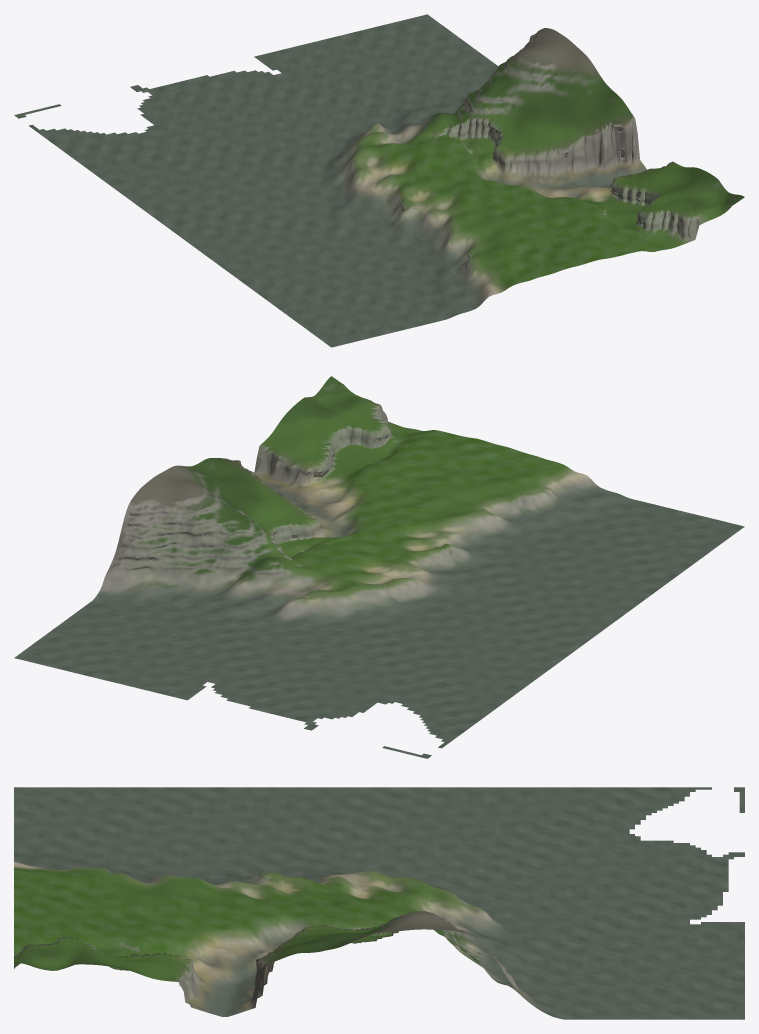
File: coast_tile_x0z0.glb
The picture shows the model from 3 angles, top to bottom: view 1: azimuth 30°, elevation 25°; view 2: azimuth 150°, elevation 25°; view 3: azimuth 270°, elevation 25°; orthographic projection. The views are drawn at different scales.
Parts seen in each view (by area): view 1: coast_tile_x0z0; view 2: coast_tile_x0z0; view 3: coast_tile_x0z0.
Part boxes in pixels (box(x1,y1,x2,y2)): coast_tile_x0z0: box(14, 14, 744, 347); coast_tile_x0z0: box(14, 376, 744, 758); coast_tile_x0z0: box(14, 787, 744, 1019).
Bounding box in the file's own units: 600 × 109 × 798.
